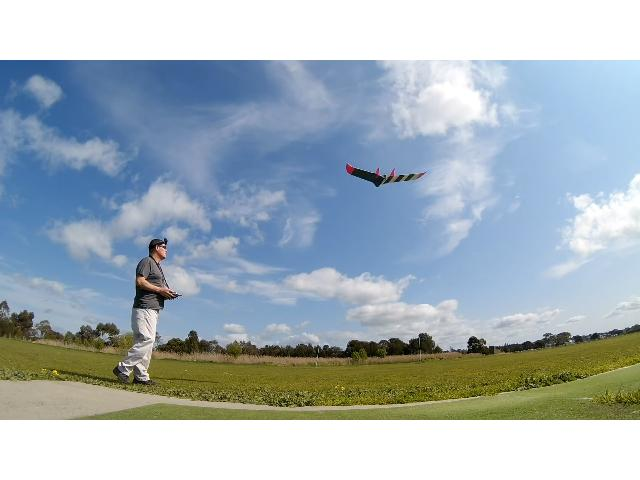Anti-Drone: (347, 162, 428, 188)
